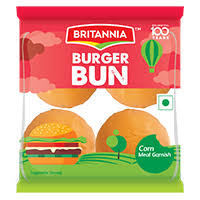bread: (15, 5, 186, 195)
